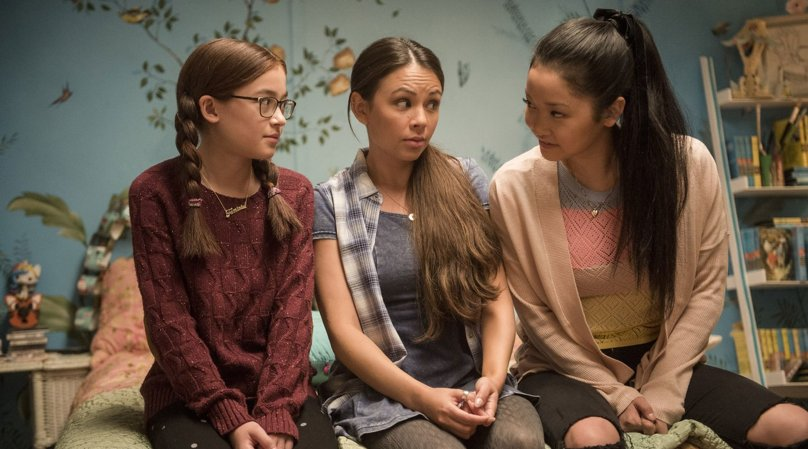bare: (219, 107, 295, 160), (367, 113, 442, 160), (522, 122, 582, 163)
